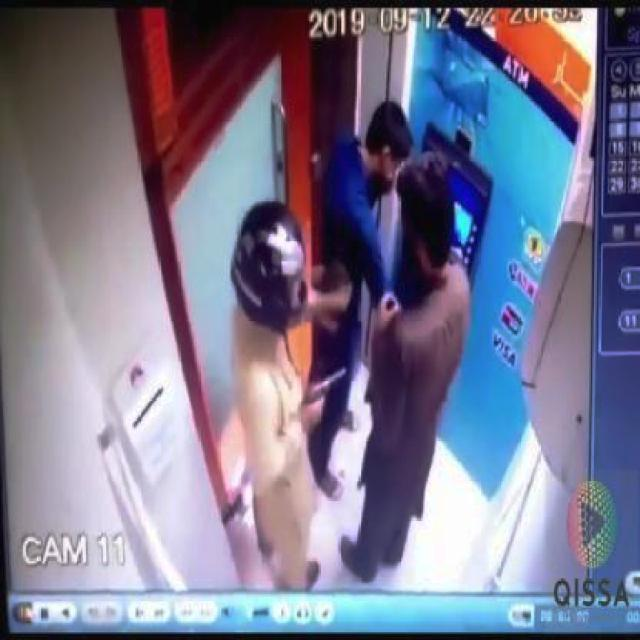Gun: (299, 359, 352, 408)
